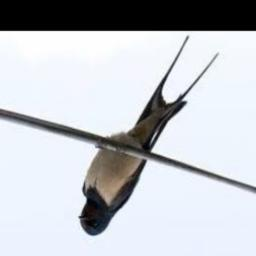Swallow: (78, 36, 219, 236)
